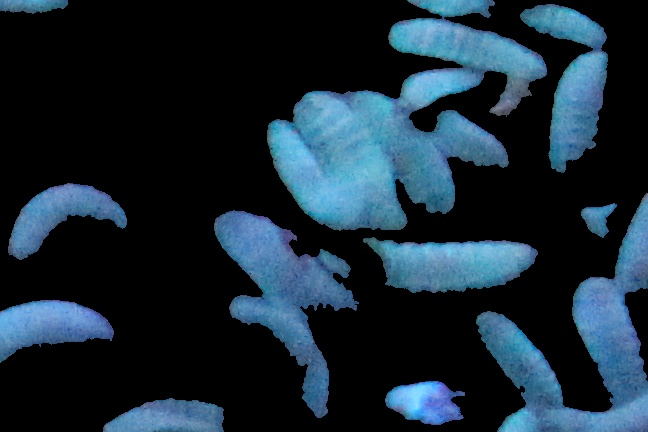larvae: (290, 87, 404, 229), (211, 210, 355, 309), (223, 293, 332, 418), (348, 89, 455, 213), (355, 237, 538, 295), (388, 14, 547, 80), (7, 184, 130, 262), (572, 276, 648, 399), (472, 309, 563, 408), (1, 297, 117, 371), (547, 48, 613, 170), (264, 115, 333, 225), (434, 108, 513, 167), (396, 58, 486, 108), (94, 399, 228, 432), (518, 3, 609, 46)
